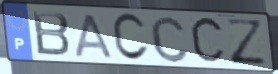A: (73, 12, 115, 60)
B: (30, 9, 72, 58)
C: (110, 12, 151, 64), (149, 15, 191, 65), (188, 15, 227, 68)
Z: (224, 17, 270, 67)
